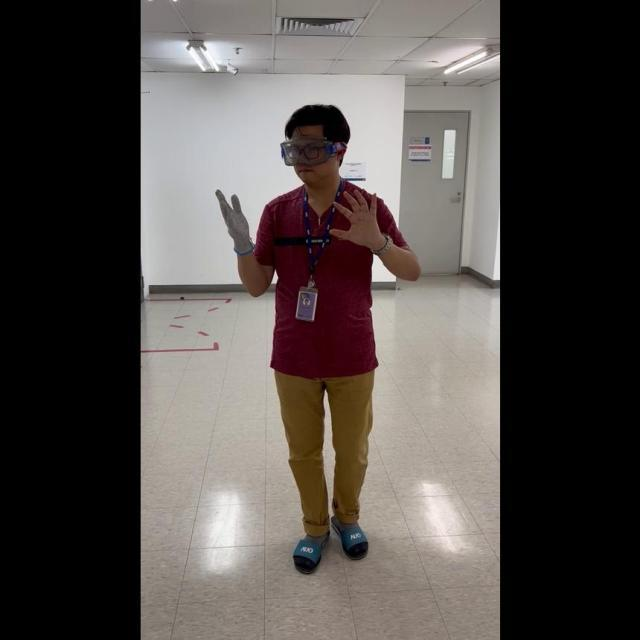bare_hand: (328, 184, 389, 252)
gloved_hand: (213, 185, 255, 255)
